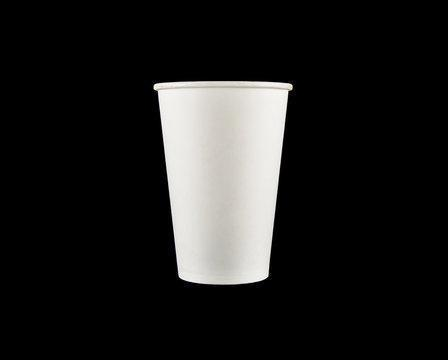cup-disposable: (150, 74, 296, 290)
